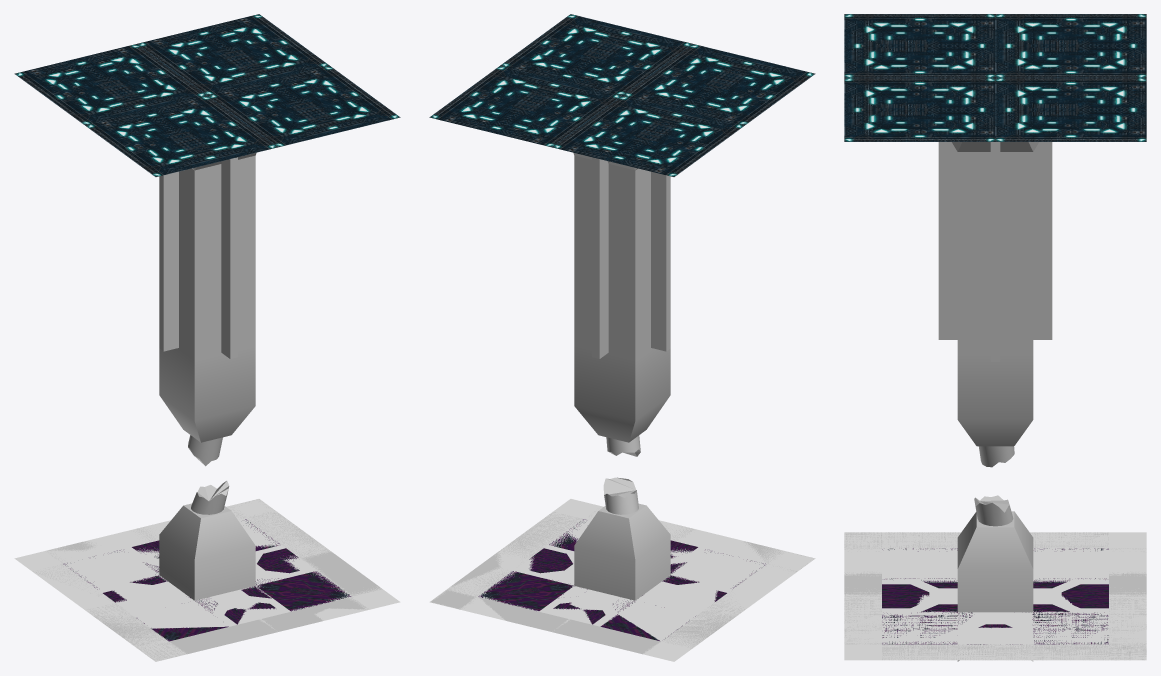
File: cbturrd1.FBX
3 views of the same model, side by side, from view 1: azimuth 30°, elevation 25°; view 2: azimuth 150°, elevation 25°; view 3: azimuth 270°, elevation 25° (orthographic). The views are drawn at different scales.
Parts seen in each view (by area): view 1: tower6__e, obj1__e, terrain__h, cbturrd1__e, nodule1__e, glass1__e, turret_y__e; view 2: tower6__e, obj1__e, terrain__h, cbturrd1__e, nodule1__e, glass1__e, turret_y__e; view 3: tower6__e, terrain__h, obj1__e, nodule1__e, cbturrd1__e, glass1__e, turret_y__e.
Part boxes in pixels (<box>): tower6__e: <box>14,14,400,176</box>; obj1__e: <box>159,155,255,600</box>; terrain__h: <box>14,499,400,661</box>; cbturrd1__e: <box>33,499,381,661</box>; nodule1__e: <box>159,152,256,358</box>; glass1__e: <box>63,519,351,641</box>; turret_y__e: <box>188,435,229,514</box>; tower6__e: <box>429,14,815,176</box>; obj1__e: <box>574,155,670,600</box>; terrain__h: <box>429,499,815,661</box>; cbturrd1__e: <box>430,507,813,654</box>; nodule1__e: <box>573,152,670,358</box>; glass1__e: <box>478,519,765,640</box>; turret_y__e: <box>603,435,640,514</box>; tower6__e: <box>844,14,1146,141</box>; terrain__h: <box>844,532,1146,660</box>; obj1__e: <box>957,152,1033,612</box>; nodule1__e: <box>938,142,1052,661</box>; cbturrd1__e: <box>844,532,1146,660</box>; glass1__e: <box>882,548,1108,644</box>; turret_y__e: <box>974,446,1014,526</box>.
Size of what is drawn, in the model's own units: 64 by 64 by 127.
